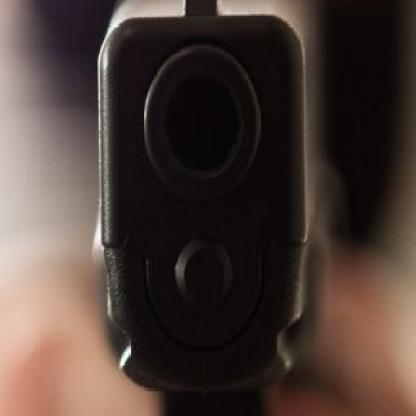gun: (88, 0, 337, 415)
